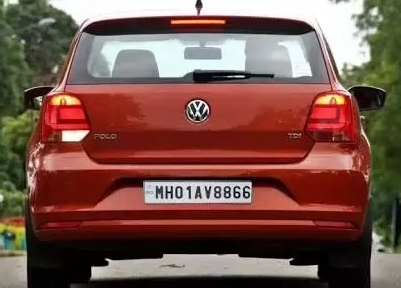MH01AV8866: (144, 181, 252, 203)
